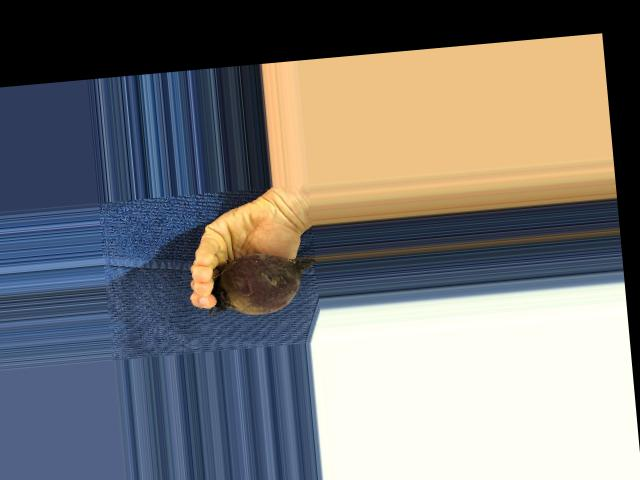beet: (202, 247, 319, 318)
